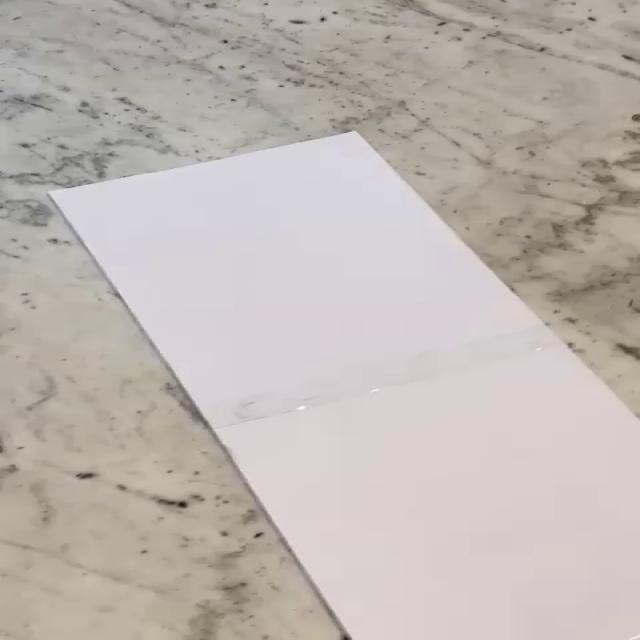road: (44, 131, 640, 640)
